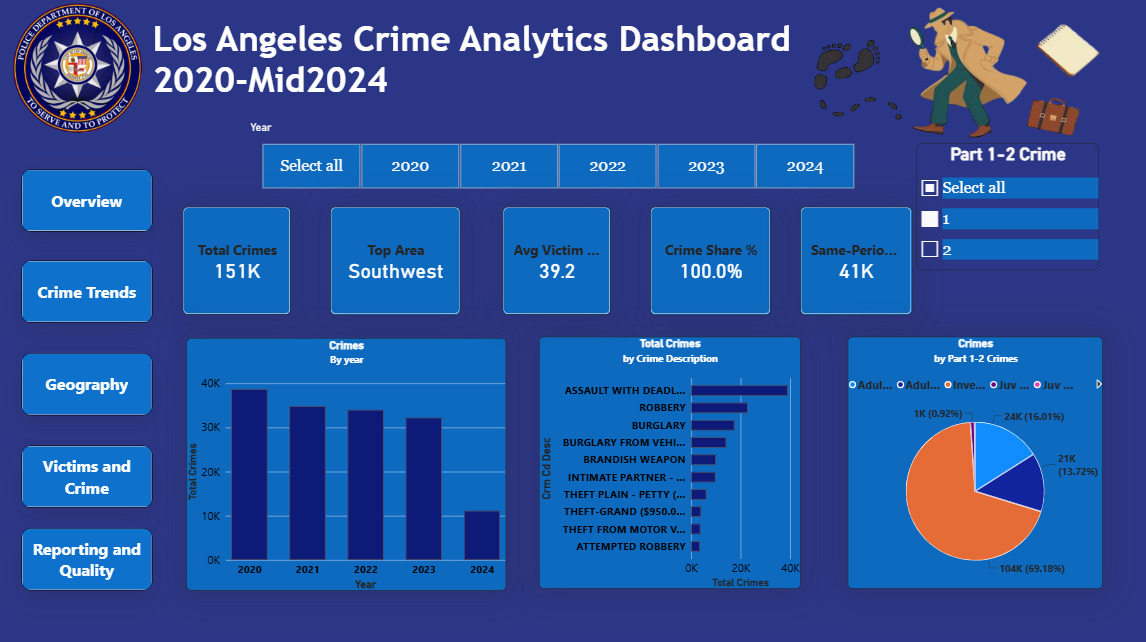

Layout of this report page (visuals, bound fields, positions):
{"tool":"powerbi","page":{"name":"Overview","canvas":[1920,1080],"ordinal":0},"visuals":[{"type":"textbox","box":[255.2,32.9,1130,170.8],"z":0},{"type":"actionButton","box":[38,286,218,104],"z":0,"group":"g1"},{"type":"image","box":[18,8,221.4,220],"z":1000},{"type":"actionButton","box":[38,438,218,104],"z":1000,"group":"g1"},{"type":"group","id":"g1","title":"Group 1","box":[38,286,218,702],"z":2000},{"type":"actionButton","box":[38,592,218,104],"z":2000,"group":"g1"},{"type":"slicer","title":"Year","fields":{"Values":["Date Table.Year"]},"box":[418,204,1025,115],"z":3000},{"type":"actionButton","box":[38,746,218,104],"z":3000,"group":"g1"},{"type":"cardVisual","fields":{"Data":["Los_Angelas_Crime_Data_2020_24.Crime Share %"]},"box":[1085,347.5,201.2,180.9],"z":4000},{"type":"actionButton","box":[38,884,218,104],"z":4000,"group":"g1"},{"type":"cardVisual","fields":{"Data":["Los_Angelas_Crime_Data_2020_24.Top Area"]},"box":[552.5,347.5,217,180.9],"z":5000},{"type":"cardVisual","fields":{"Data":["Los_Angelas_Crime_Data_2020_24.Total Crimes"]},"box":[306,348,180,180],"z":6000},{"type":"cardVisual","fields":{"Data":["Los_Angelas_Crime_Data_2020_24.Same-Period Crimes"]},"box":[1335,347.5,187,180.9],"z":7000},{"type":"columnChart","title":"Crimes","fields":{"Category":["Date Table.Year"],"Y":["Los_Angelas_Crime_Data_2020_24.Total Crimes"]},"box":[312,566,532.4,420.7],"z":8000},{"type":"clusteredBarChart","title":"Total Crimes","fields":{"Category":["Los_Angelas_Crime_Data_2020_24.Crm Cd Desc"],"Y":["Los_Angelas_Crime_Data_2020_24.Total Crimes"]},"box":[900,565,435.8,420],"z":9000},{"type":"image","box":[1270.8,0,650,262.5],"z":9500},{"type":"pieChart","title":"Crimes","fields":{"Series":["Los_Angelas_Crime_Data_2020_24.Status Desc"],"Y":["Los_Angelas_Crime_Data_2020_24.Total Crimes"]},"box":[1415,565,425,420],"z":10000},{"type":"cardVisual","fields":{"Data":["Los_Angelas_Crime_Data_2020_24.Avg Victim Age"]},"box":[840,347.5,180,180],"z":12000},{"type":"slicer","title":"Part 1-2 Crime","fields":{"Values":["Los_Angelas_Crime_Data_2020_24.Part 1-2"]},"box":[1529.2,241.7,304,212],"z":13001}]}

Visuals, with their boxes in screenshot pixels (x1, y1, x2, y2), scaled from the page's 1920x1080 canvas onto the 1146x642 screenshot:
textbox: bbox=[152, 20, 827, 121]
actionButton: bbox=[23, 170, 153, 232]
image: bbox=[11, 5, 143, 136]
actionButton: bbox=[23, 260, 153, 322]
"Group 1" group: bbox=[23, 170, 153, 587]
actionButton: bbox=[23, 352, 153, 414]
"Year" slicer: bbox=[249, 121, 861, 190]
actionButton: bbox=[23, 443, 153, 505]
cardVisual - Los_Angelas_Crime_Data_2020_24.Crime Share %: bbox=[648, 207, 768, 314]
actionButton: bbox=[23, 525, 153, 587]
cardVisual - Los_Angelas_Crime_Data_2020_24.Top Area: bbox=[330, 207, 459, 314]
cardVisual - Los_Angelas_Crime_Data_2020_24.Total Crimes: bbox=[183, 207, 290, 314]
cardVisual - Los_Angelas_Crime_Data_2020_24.Same-Period Crimes: bbox=[797, 207, 908, 314]
"Crimes" columnChart: bbox=[186, 336, 504, 587]
"Total Crimes" clusteredBarChart: bbox=[537, 336, 797, 586]
image: bbox=[759, 0, 1145, 156]
"Crimes" pieChart: bbox=[845, 336, 1098, 586]
cardVisual - Los_Angelas_Crime_Data_2020_24.Avg Victim Age: bbox=[501, 207, 609, 314]
"Part 1-2 Crime" slicer: bbox=[913, 144, 1094, 270]
